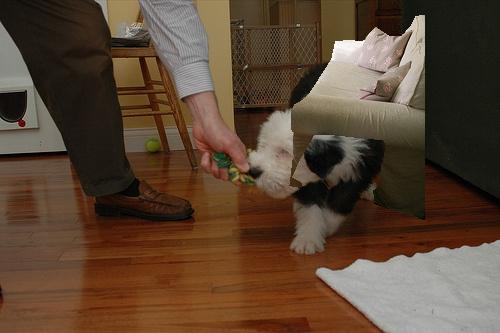tampered: (290, 16, 425, 220)
